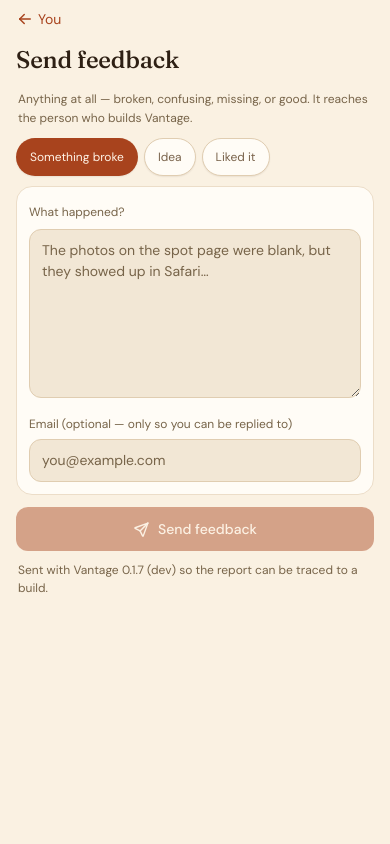
Test: Feedback › surfaces a failure instead of silently losing the report
Type "Broken" into the text box labelled "What happened?" at (195, 314), box x1=29 y1=229 x2=361 y2=398
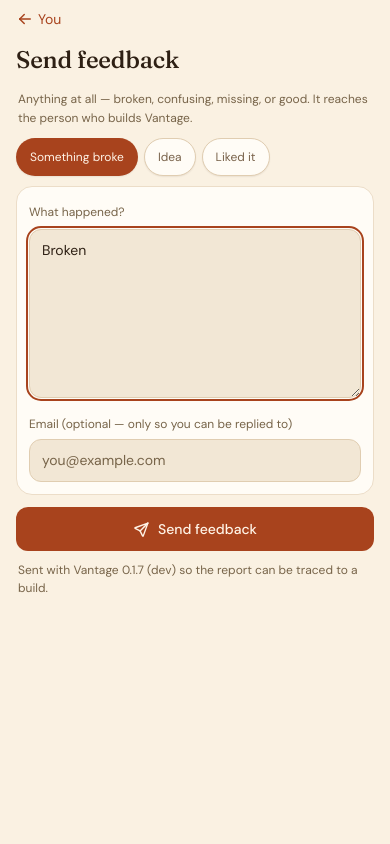
Click the button "Send feedback" at (195, 529), box x1=16 y1=507 x2=374 y2=551
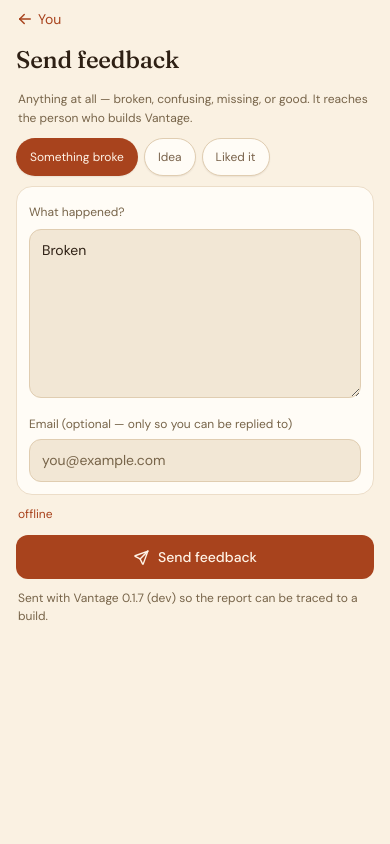
Check: the text "offline" is shown, box x1=18 y1=506 x2=52 y2=522
